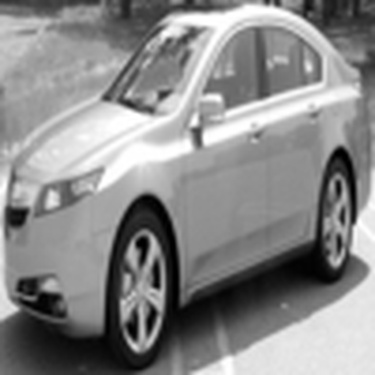car: (5, 7, 373, 373), (312, 34, 369, 73)
